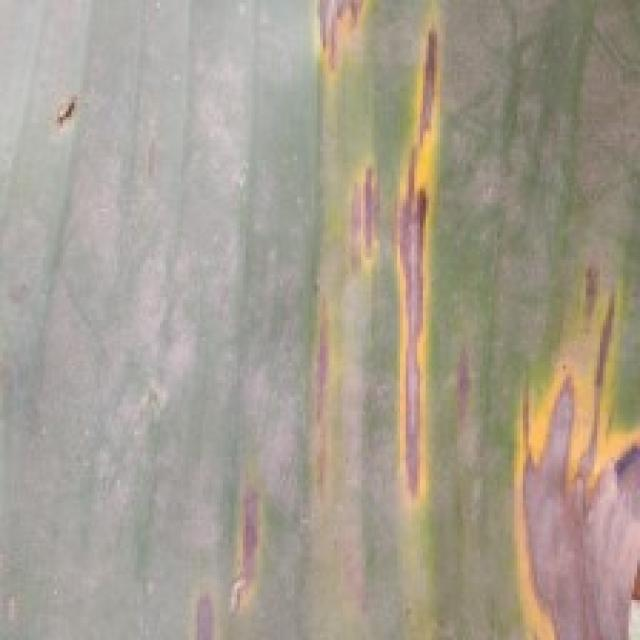Early_leaf_spot: (505, 266, 640, 638), (372, 1, 454, 510), (281, 134, 389, 508), (156, 442, 277, 640), (297, 0, 383, 77), (36, 85, 99, 153)
